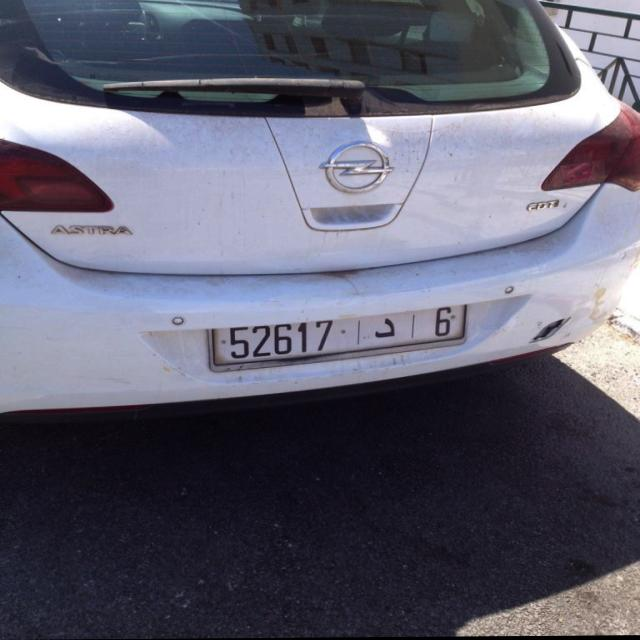License-Plate: (212, 306, 465, 367)
